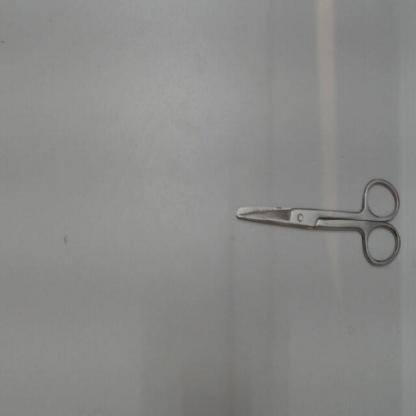Dressing Scissors: (223, 170, 407, 277)
